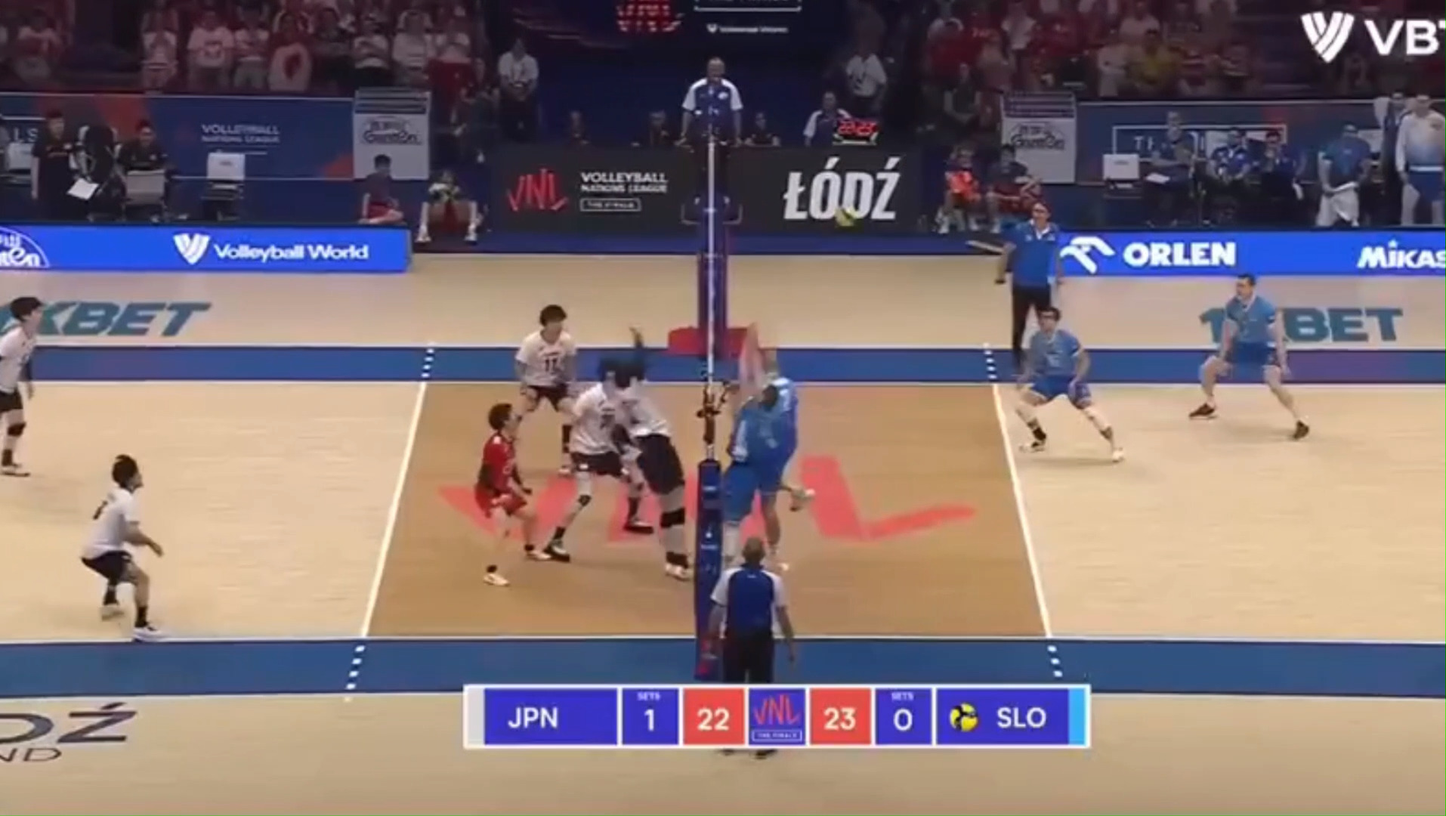ball: (835, 209, 857, 227)
player: (1189, 274, 1309, 440), (1015, 307, 1123, 462), (722, 379, 775, 561), (760, 349, 814, 511)
player 1: (599, 332, 691, 580), (544, 385, 652, 559), (81, 455, 163, 639), (474, 402, 554, 559), (514, 304, 576, 474), (0, 295, 45, 477)
referee: (709, 536, 796, 682), (679, 57, 745, 223), (996, 202, 1059, 370)
